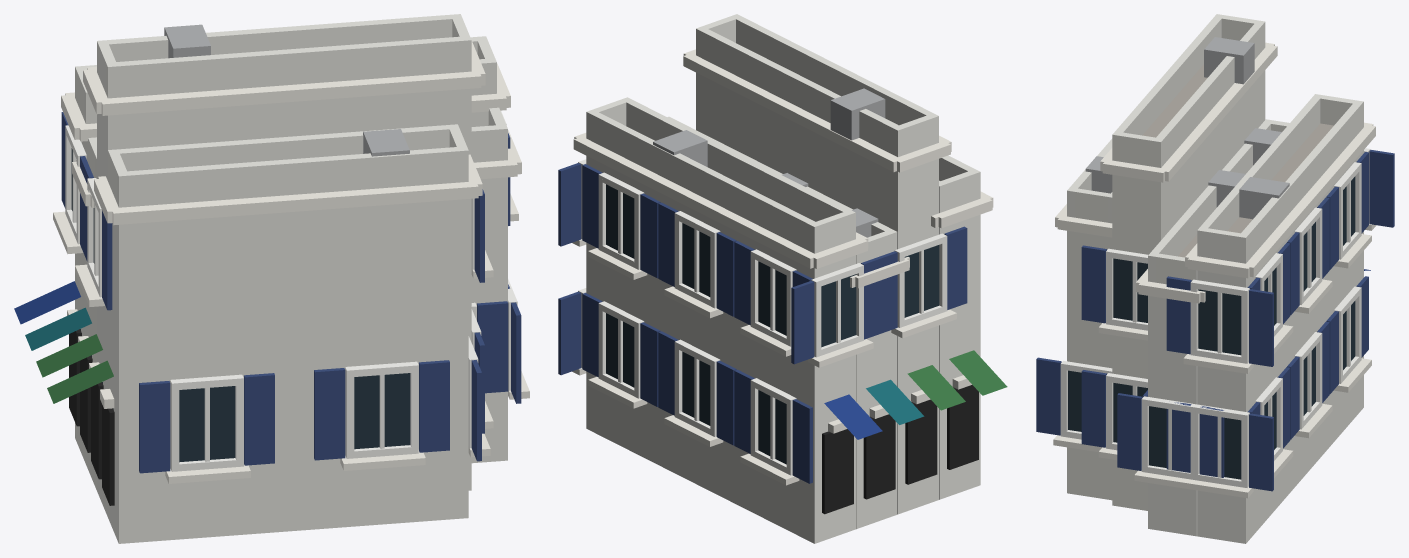
3 renders of one model, left to right at view 1: azimuth 30°, elevation 25°; view 2: azimuth 150°, elevation 25°; view 3: azimuth 270°, elevation 25°, orthographic. The views are drawn at different scales.
Visible parts, largest first — view 1: b10738; view 2: b10738; view 3: b10738.
Boxes of the visible parts, box(x1,y1,x2,y2) form: b10738: box(14, 14, 529, 543); b10738: box(558, 14, 1007, 543); b10738: box(1036, 14, 1394, 543).
Size of the model in its own units: 4353 by 3908 by 3394.
